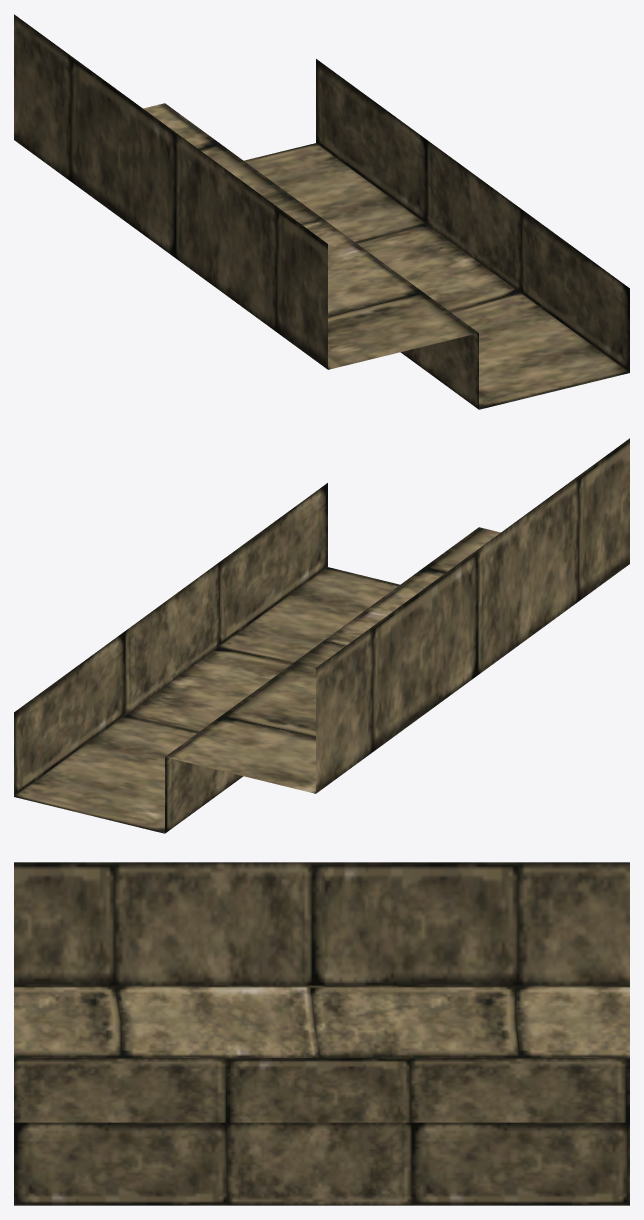
Rendered from OVERHILL_A_01_OBJECT330.fbx.
3 renders of one model, top to bottom at view 1: azimuth 30°, elevation 25°; view 2: azimuth 150°, elevation 25°; view 3: azimuth 270°, elevation 25°, orthographic.
Parts seen in each view (by area): view 1: OVERHILL_A_01_OBJECT330; view 2: OVERHILL_A_01_OBJECT330; view 3: OVERHILL_A_01_OBJECT330.
Part boxes in pixels (bbox=[...]): OVERHILL_A_01_OBJECT330: bbox=[14, 14, 629, 409]; OVERHILL_A_01_OBJECT330: bbox=[14, 438, 629, 833]; OVERHILL_A_01_OBJECT330: bbox=[14, 862, 629, 1205].
Bounding box in the file's own units: 20180 × 12938 × 36360.
Materials: 1 (1 with a texture image).
